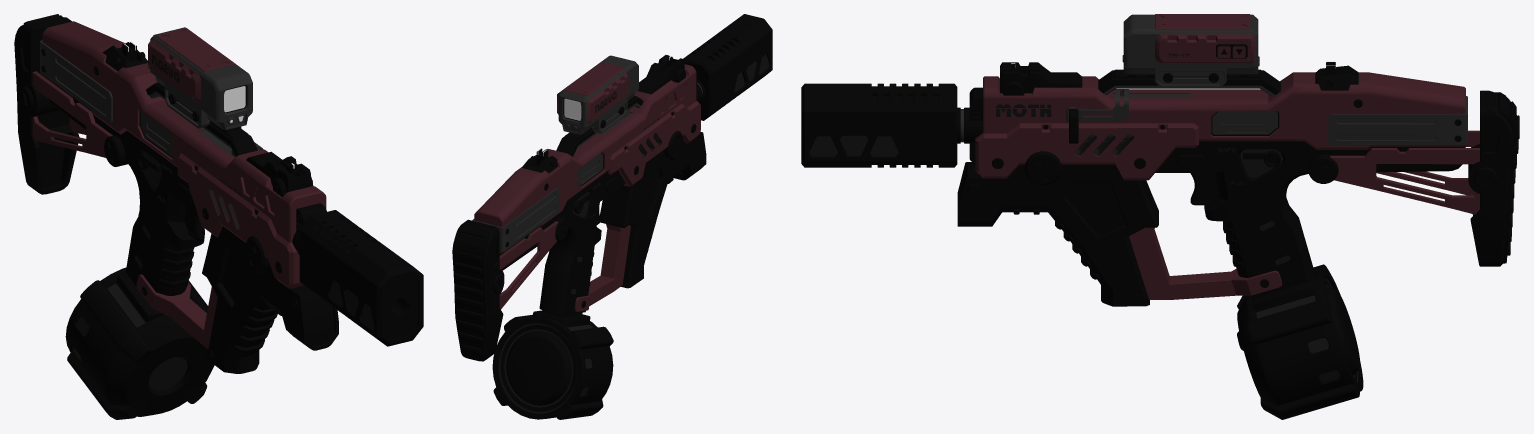
The model's file is sci-fi_smg.fbx.
The picture shows the model from 3 angles, left to right: view 1: azimuth 30°, elevation 25°; view 2: azimuth 150°, elevation 25°; view 3: azimuth 270°, elevation 25°; orthographic projection. The views are drawn at different scales.
Visible parts, largest first — view 1: Cylinder.029, Cube, Cube.007, Cube.006, Cube.001, Cube.027, Cube.002, Cube.010, Cube.003, Cube.012, Cube.011, Cube.029 (+8 smaller); view 2: Cylinder.029, Cube, Cube.001, Cube.007, Cube.006, Cube.027, Cube.002, Cube.010, Cube.037, Cube.011, Cube.003, Cube.012 (+5 smaller); view 3: Cube, Cube.006, Cylinder.029, Cube.001, Cube.007, Cube.010, Cube.027, Cube.002, Cube.003, Cube.012, Cube.011, Cube.029 (+9 smaller).
Part boxes in pixels (<box>): Cylinder.029: <box>65,267,214,419</box>; Cube: <box>42,21,326,242</box>; Cube.007: <box>299,210,423,346</box>; Cube.006: <box>202,226,338,373</box>; Cube.001: <box>44,76,204,295</box>; Cube.027: <box>148,27,252,130</box>; Cube.002: <box>14,15,79,194</box>; Cube.010: <box>177,153,303,288</box>; Cube.003: <box>32,71,112,157</box>; Cube.012: <box>40,40,112,123</box>; Cube.011: <box>136,274,217,348</box>; Cube.029: <box>246,151,310,192</box>; Cylinder.029: <box>492,310,613,419</box>; Cube: <box>474,64,696,253</box>; Cube.001: <box>499,170,625,314</box>; Cube.007: <box>683,14,772,120</box>; Cube.006: <box>600,131,706,288</box>; Cube.027: <box>557,55,638,134</box>; Cube.002: <box>452,219,504,361</box>; Cube.010: <box>608,101,700,186</box>; Cube.037: <box>453,226,487,355</box>; Cube.011: <box>574,224,630,311</box>; Cube.003: <box>499,221,558,309</box>; Cube.012: <box>472,188,559,252</box>; Cube: <box>983,72,1465,149</box>; Cube.006: <box>957,162,1158,306</box>; Cylinder.029: <box>1237,264,1363,419</box>; Cube.001: <box>1155,141,1465,296</box>; Cube.007: <box>801,83,957,167</box>; Cube.010: <box>975,123,1198,180</box>; Cube.027: <box>1123,14,1258,87</box>; Cube.002: <box>1468,90,1517,266</box>; Cube.003: <box>1330,130,1479,214</box>; Cube.012: <box>1327,96,1467,145</box>; Cube.011: <box>1129,227,1282,299</box>; Cube.029: <box>1000,62,1082,95</box>.
Size of the model in its own units: 231 by 773 by 1302.
